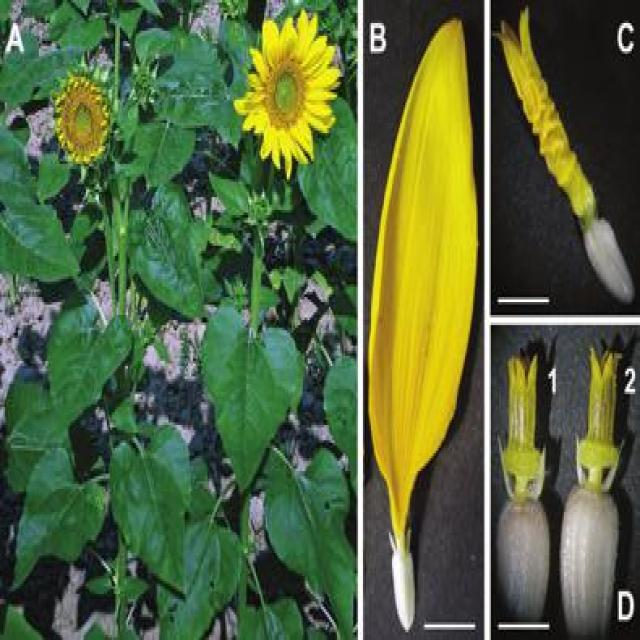sunflower: (233, 3, 341, 179)
